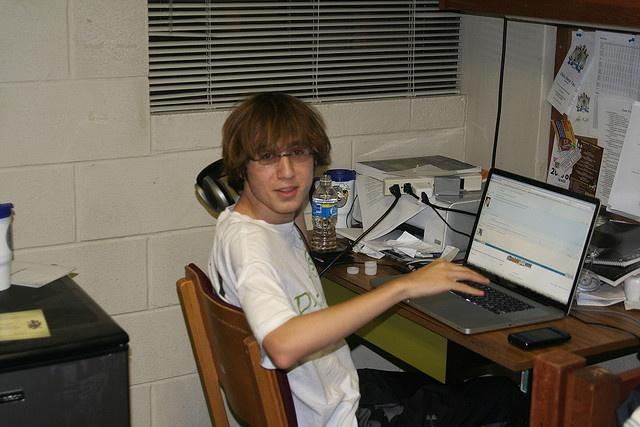Printer: (334, 162, 479, 260)
